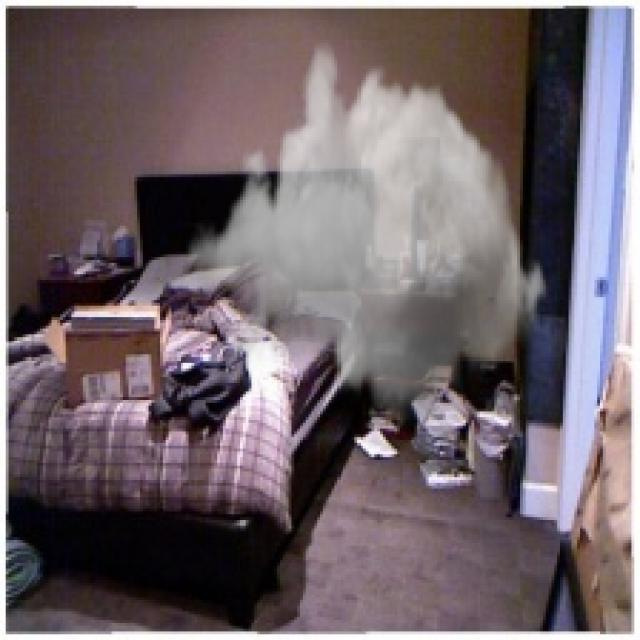Smoke: (186, 37, 552, 434)
